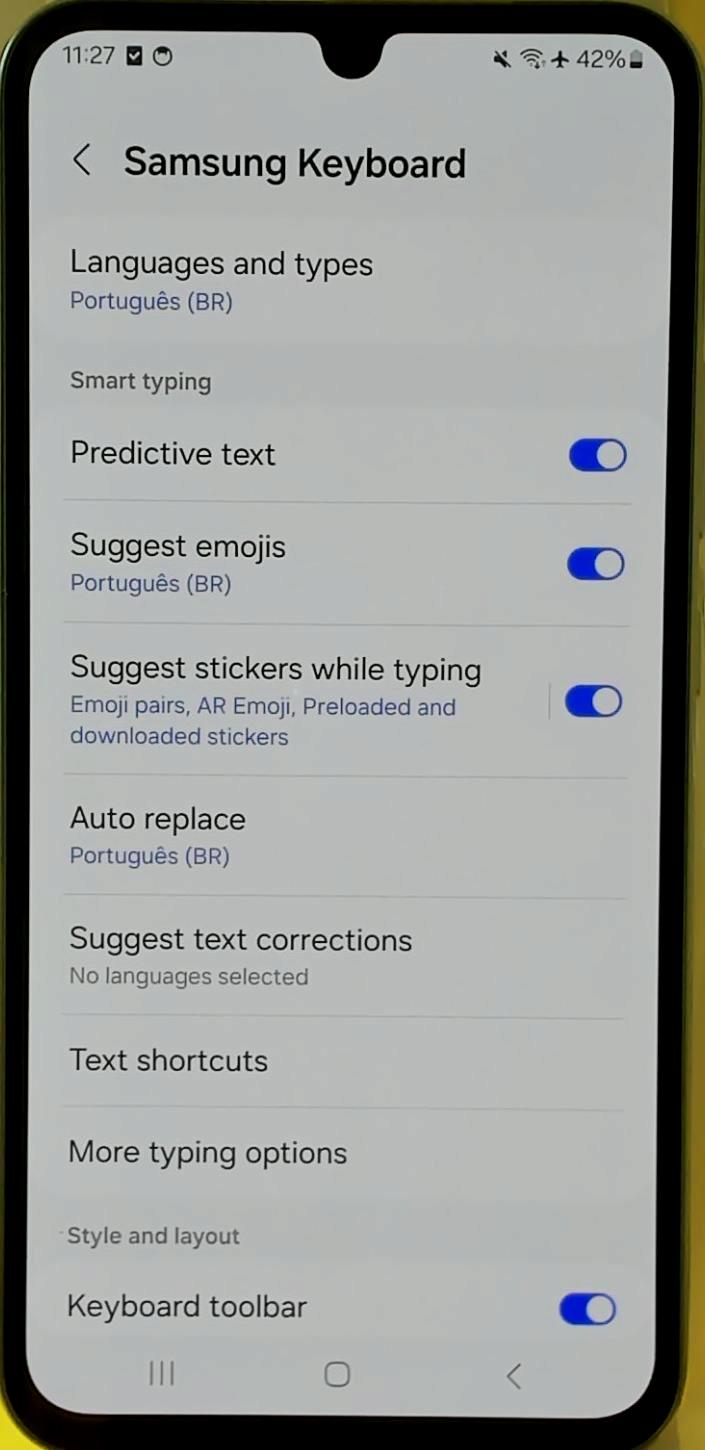Checkbox: (54, 644, 648, 770), (56, 514, 648, 632), (56, 408, 634, 502), (52, 1264, 642, 1354)
CommunBotton: (60, 780, 642, 898), (56, 230, 646, 342), (36, 916, 646, 1002), (54, 1024, 648, 1104), (50, 1126, 648, 1176)
